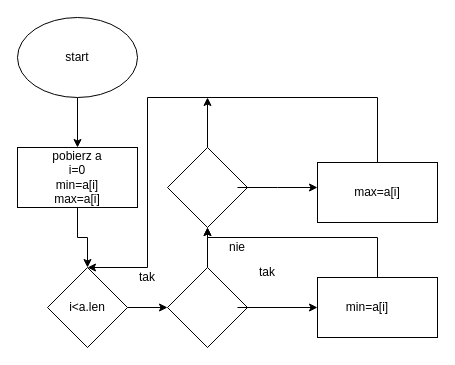
This 455x365 diagram has some shape labels left out. Each missing label, with the box of its shape:
a[i]<min: (166, 266, 248, 348)
a[i]>max: (166, 146, 248, 228)
